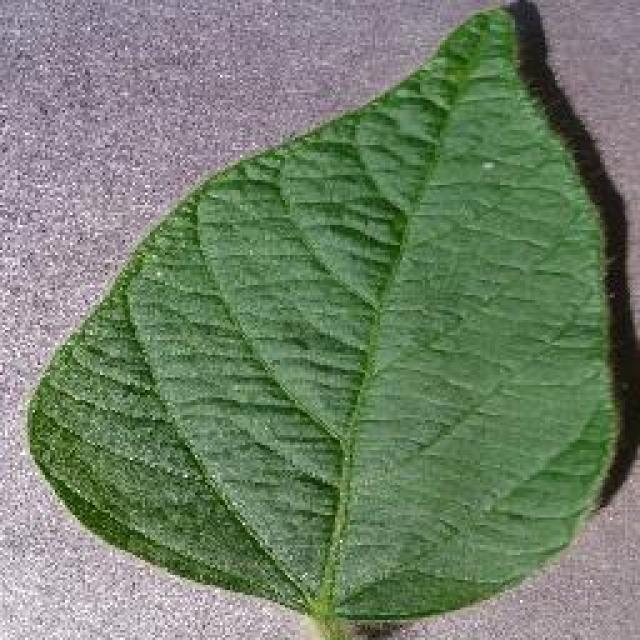Soy_healthy: (66, 68, 631, 606)
